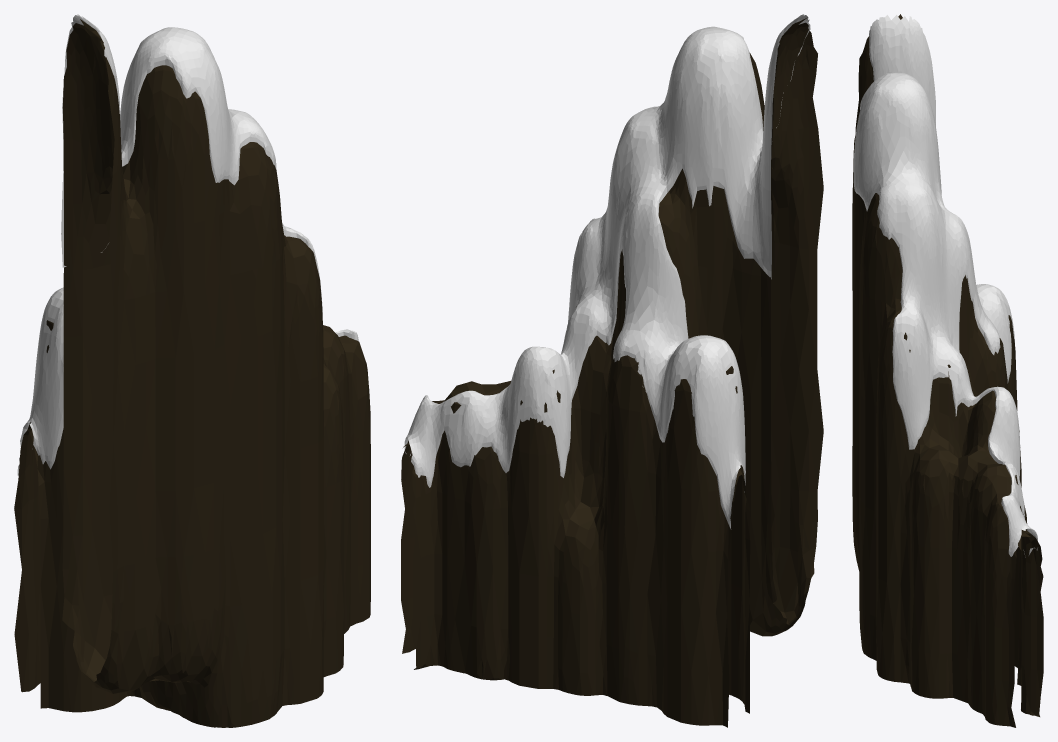
Rendered from Mtn_Wall_E0_M.fbx.
The picture shows the model from 3 angles, left to right: view 1: azimuth 30°, elevation 25°; view 2: azimuth 150°, elevation 25°; view 3: azimuth 270°, elevation 25°; orthographic projection. The views are drawn at different scales.
Parts seen in each view (by area): view 1: Mtn_Wall_E0_M; view 2: Mtn_Wall_E0_M; view 3: Mtn_Wall_E0_M.
Part boxes in pixels (left/top/right/bottom): Mtn_Wall_E0_M: left=14, top=14, right=370, bottom=727; Mtn_Wall_E0_M: left=401, top=14, right=823, bottom=727; Mtn_Wall_E0_M: left=852, top=14, right=1043, bottom=727.
Size of the model in its own units: 18819 by 36180 by 10909.
